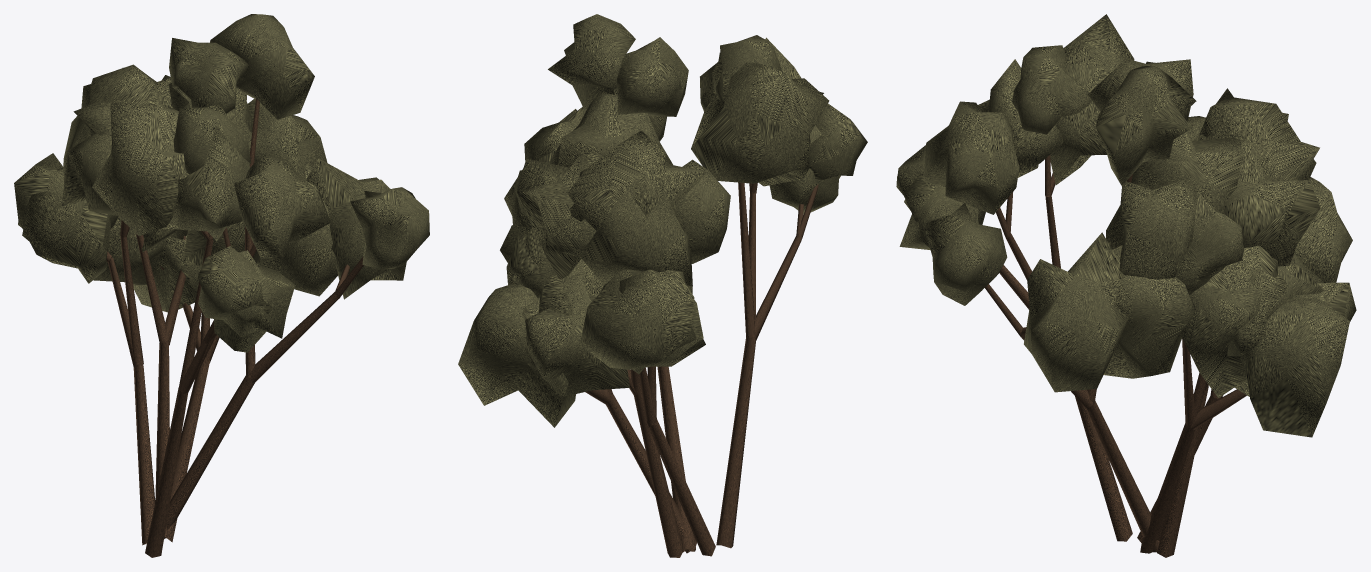
The model's file is shrub_0.dae.
The picture shows the model from 3 angles, left to right: view 1: azimuth 30°, elevation 25°; view 2: azimuth 150°, elevation 25°; view 3: azimuth 270°, elevation 25°; orthographic projection. The views are drawn at different scales.
Visible parts, largest first — view 1: shrub_0-node; view 2: shrub_0-node; view 3: shrub_0-node.
Part boxes in pixels (x1,y1,x2,y2): shrub_0-node: [14, 14, 429, 557]; shrub_0-node: [458, 14, 867, 557]; shrub_0-node: [896, 14, 1356, 557].
Bounding box in the file's own units: 0.6097 × 0.7867 × 1.
1 material, 1 textured.
